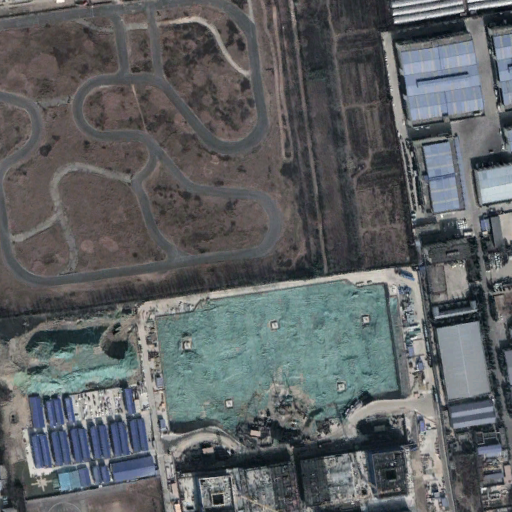cw: (151, 278, 401, 438), (14, 331, 141, 393)
